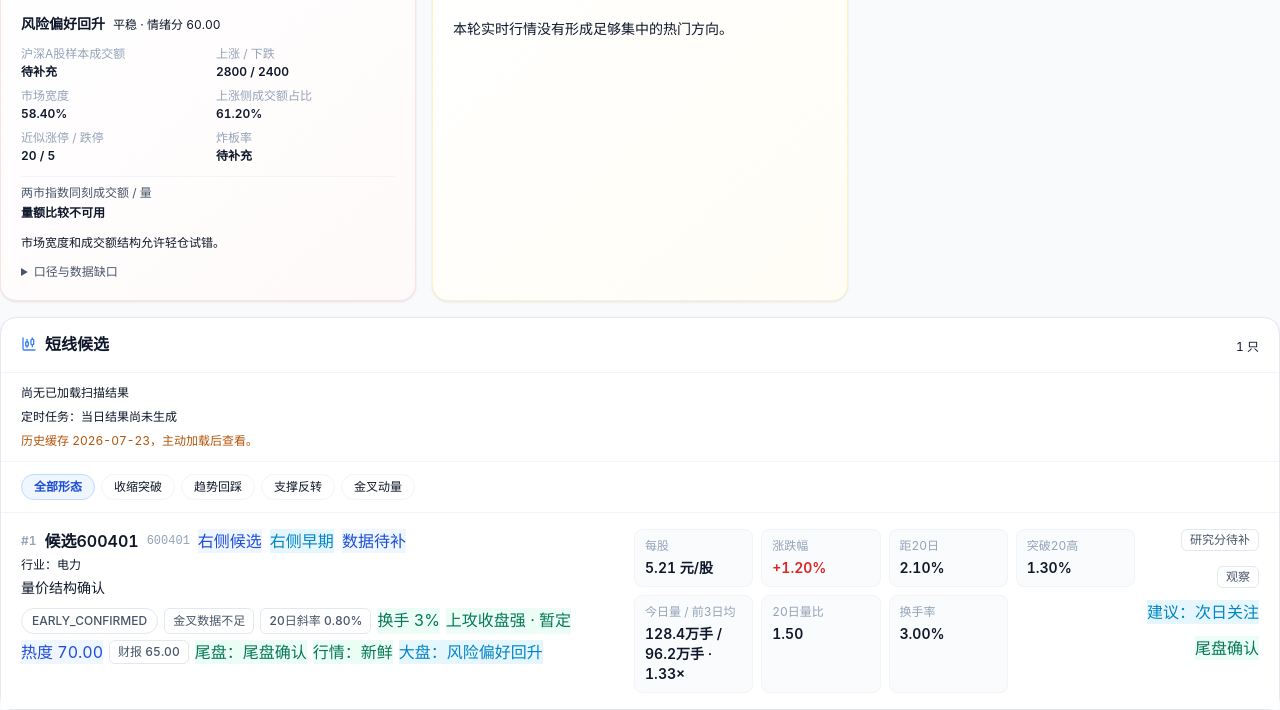
Test case: ShortTermPage manual scan flow › keeps unavailable research metrics missing instead of borrowing the legacy score
(page scrolled)
Click the button that starts with "候选600401" at point(640, 697), box [1,513,1279,709]
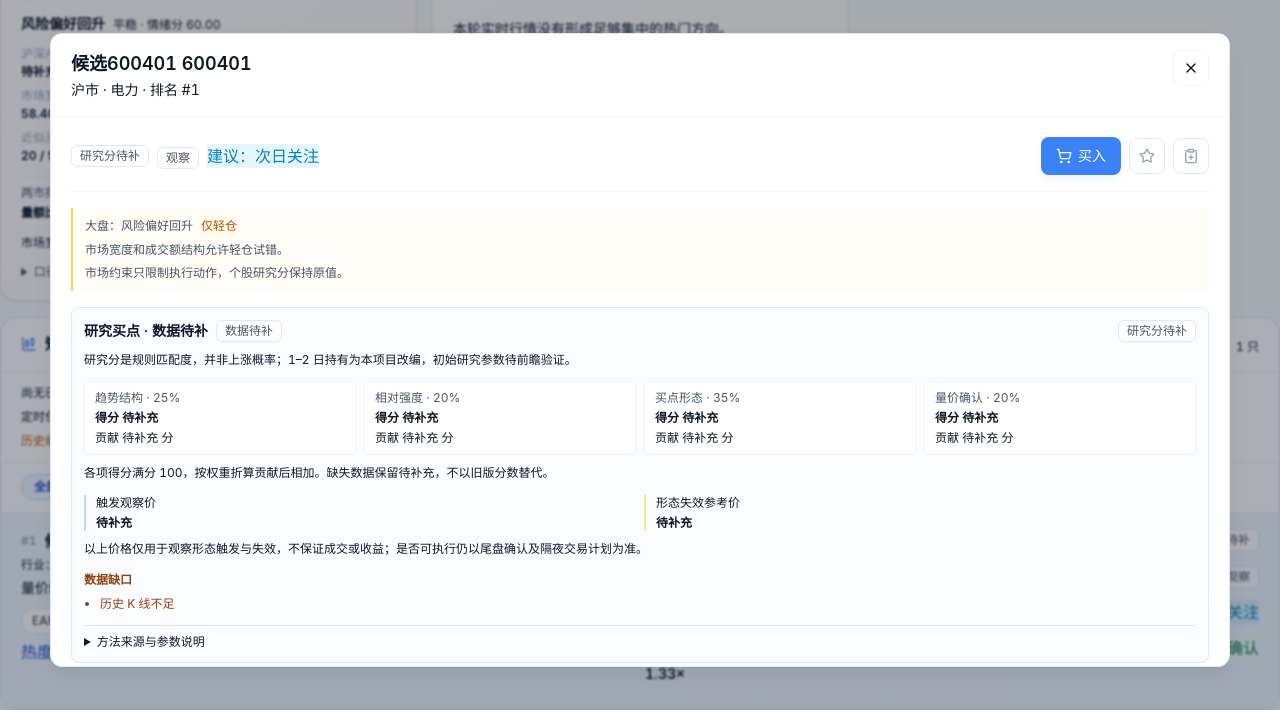
Check: the element named "研究买点详情" is shown, box [71,307,1209,663]
Check: the element named "研究买点详情" shows "历史 K 线不足", box [100,596,174,611]
Check: the element showing "趋势结构 · 25% 得分 待补充 贡献 待补充 分" is shown, box [84,381,356,455]
